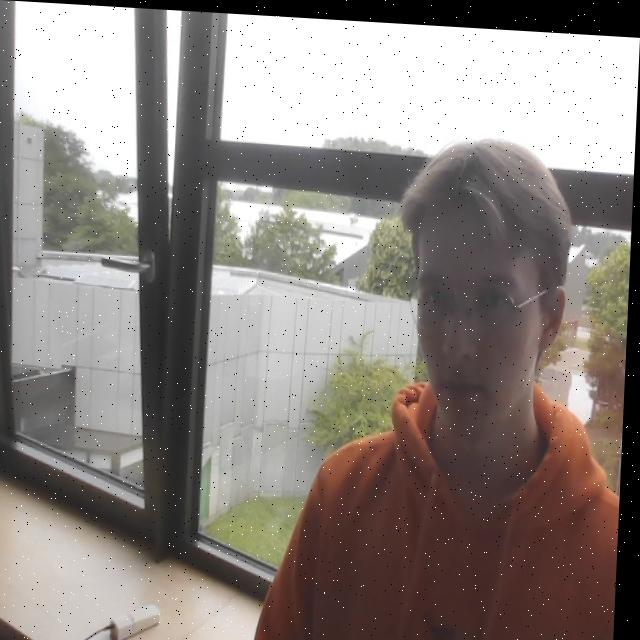opened_eye: (476, 290, 514, 315), (423, 286, 450, 313)
